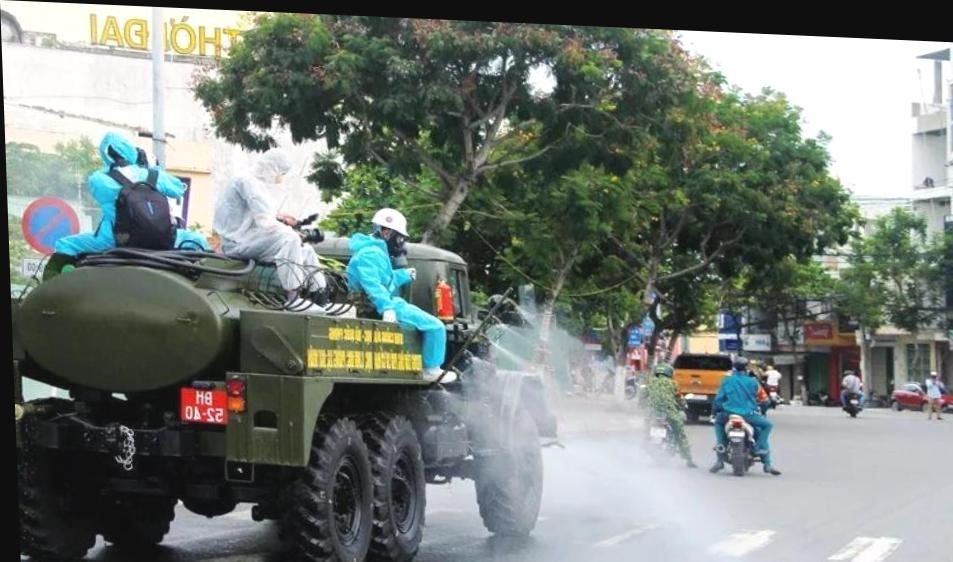License_Plate: (175, 387, 230, 430)
